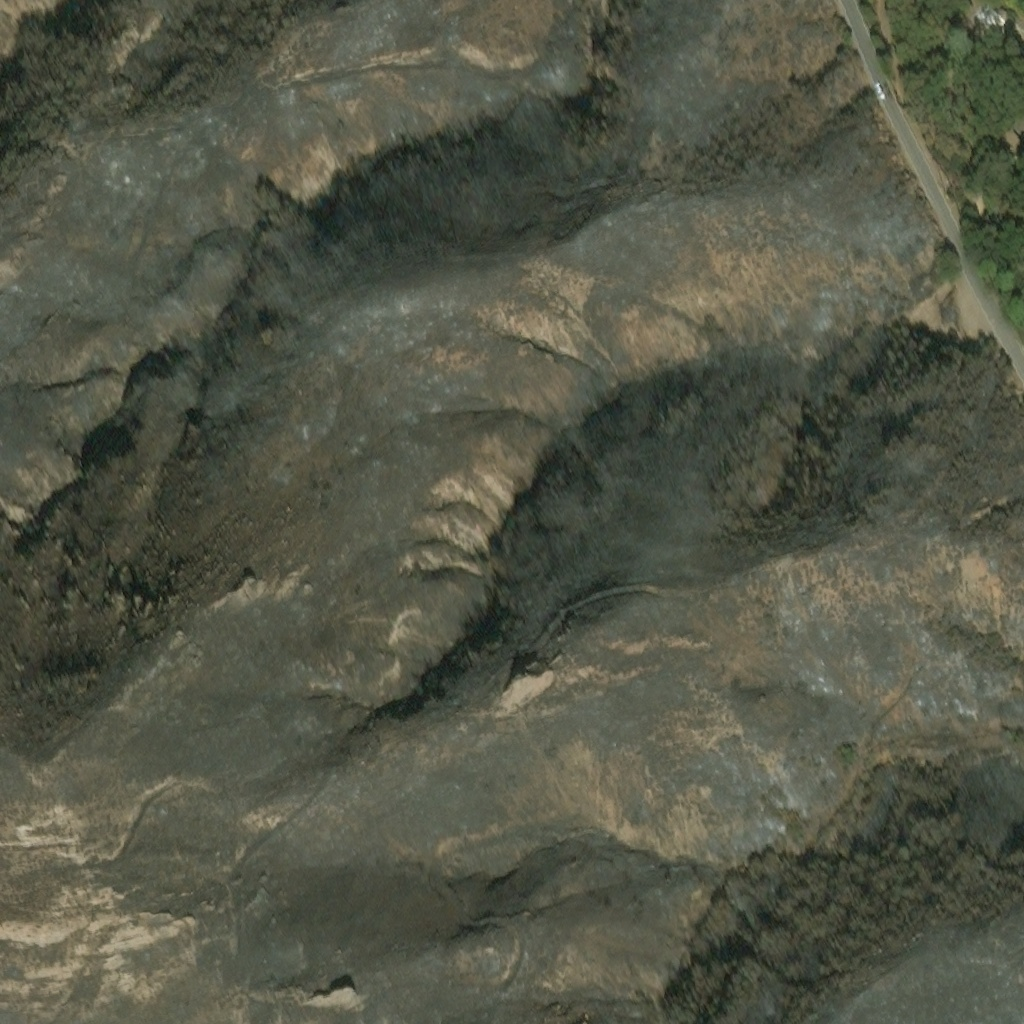4 un-classified: (979, 4, 1012, 30), (1003, 129, 1021, 152)
